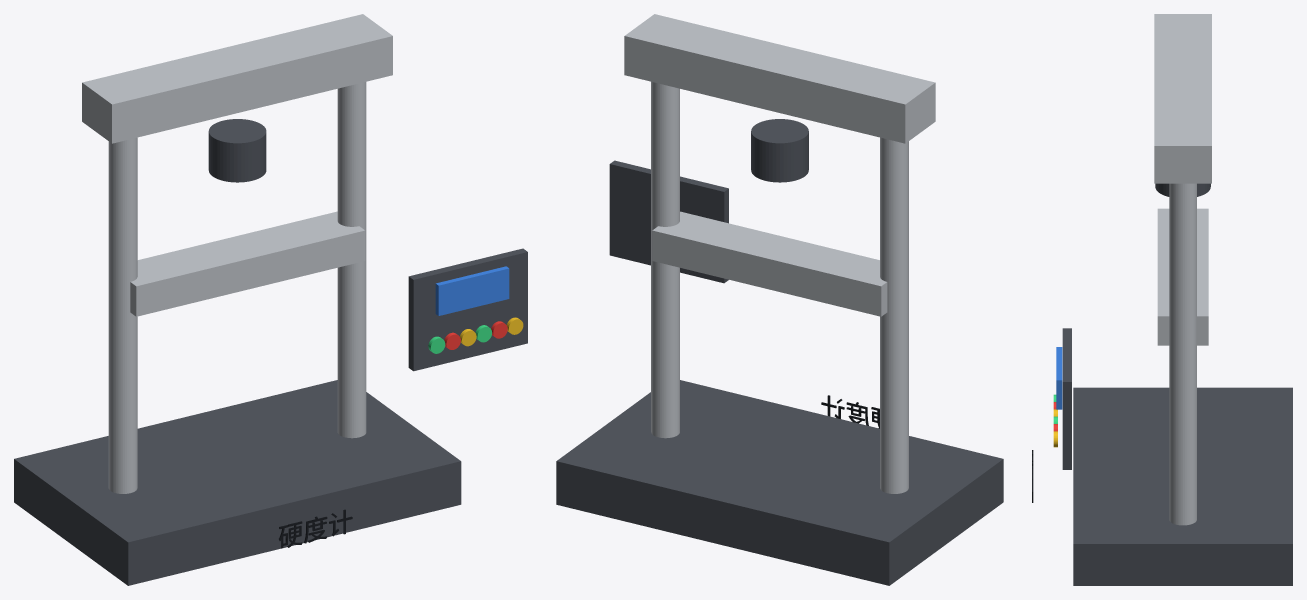
File: asset_hardness_tester.glb
3 renders of one model, left to right at view 1: azimuth 30°, elevation 25°; view 2: azimuth 150°, elevation 25°; view 3: azimuth 270°, elevation 25°, orthographic. The views are drawn at different scales.
Parts seen in each view (by area): view 1: base, top_crosshead, moving_crosshead, left_column, right_column, test_panel, load_cell, test_screen, asset_label; view 2: base, top_crosshead, moving_crosshead, left_column, right_column, test_panel, load_cell, asset_label; view 3: base, top_crosshead, right_column, moving_crosshead, test_panel, test_screen.
Part boxes in pixels (x1,y1,x2,y2): base: (14, 380, 461, 585); top_crosshead: (82, 14, 392, 143); moving_crosshead: (130, 211, 365, 316); left_column: (108, 137, 137, 493); right_column: (337, 82, 366, 438); test_panel: (408, 248, 527, 371); load_cell: (208, 119, 266, 182); test_screen: (435, 266, 509, 315); asset_label: (279, 509, 352, 548); base: (556, 380, 1003, 585); top_crosshead: (624, 14, 935, 143); moving_crosshead: (652, 211, 887, 316); left_column: (880, 137, 908, 493); right_column: (651, 81, 679, 438); test_panel: (609, 160, 728, 283); load_cell: (751, 119, 808, 182); asset_label: (821, 395, 879, 428); base: (1073, 387, 1292, 585); top_crosshead: (1154, 14, 1211, 183); right_column: (1169, 183, 1196, 525); moving_crosshead: (1157, 208, 1208, 345); test_panel: (1062, 328, 1071, 469); test_screen: (1056, 347, 1062, 409).
Size of the model in its own units: 1.9 by 2.04 by 1.13.
